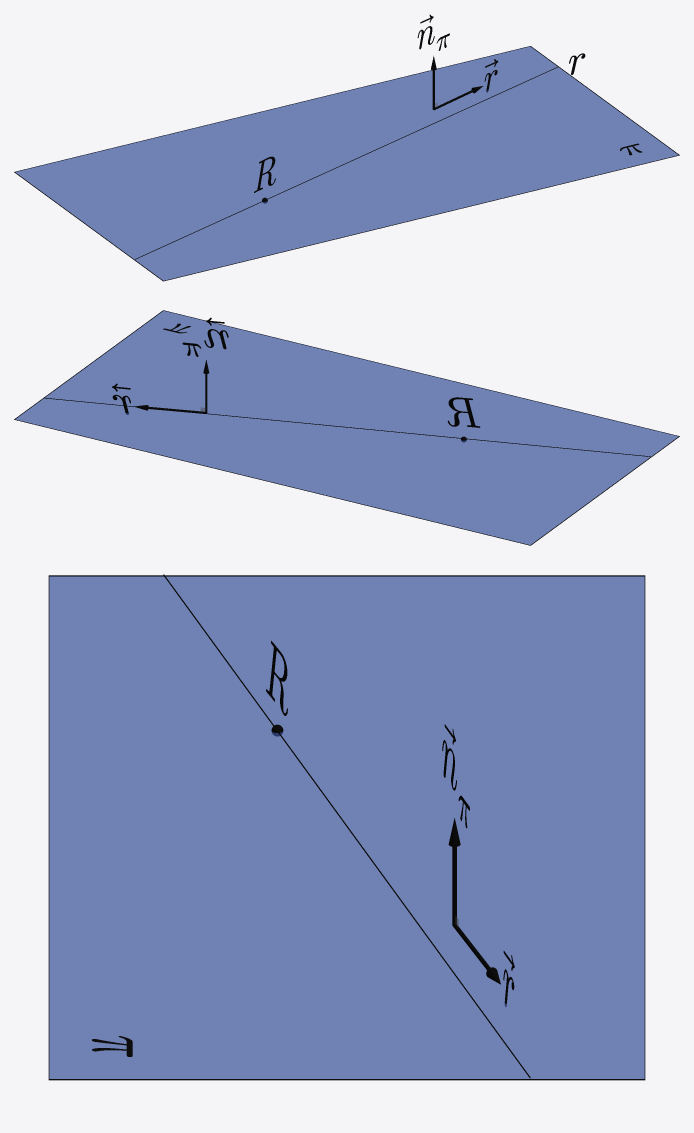
The picture shows the model from 3 angles, top to bottom: view 1: azimuth 30°, elevation 25°; view 2: azimuth 150°, elevation 25°; view 3: azimuth 270°, elevation 25°; orthographic projection. The views are drawn at different scales.
Parts seen in each view (by area): view 1: Plano, segmento; view 2: Plano, segmento, Meshn.004, Meshn.007; view 3: Plano, segmento.
Part boxes in pixels (box(x1,y1,x2,y2)): Plano: box(14, 46, 679, 281); segmento: box(135, 66, 558, 259); Plano: box(14, 310, 679, 545); segmento: box(43, 397, 650, 456); Meshn.004: box(182, 317, 228, 356); Meshn.007: box(447, 397, 480, 427); Plano: box(48, 575, 645, 1080); segmento: box(163, 574, 530, 1078).
Bounding box in the file's own units: 4.22 × 0.8538 × 2.
